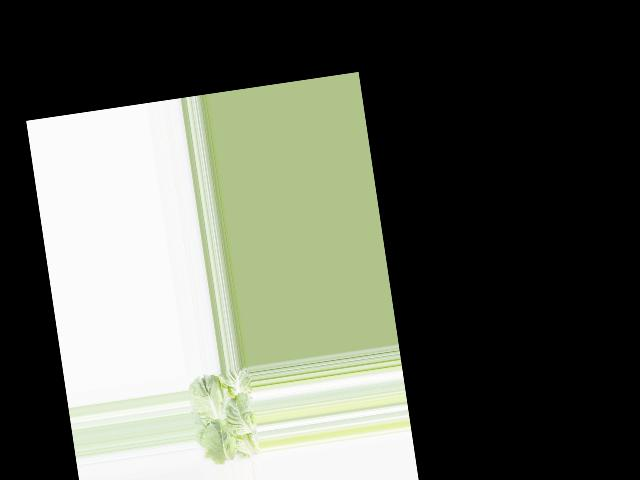lettuce: (188, 368, 262, 465)
